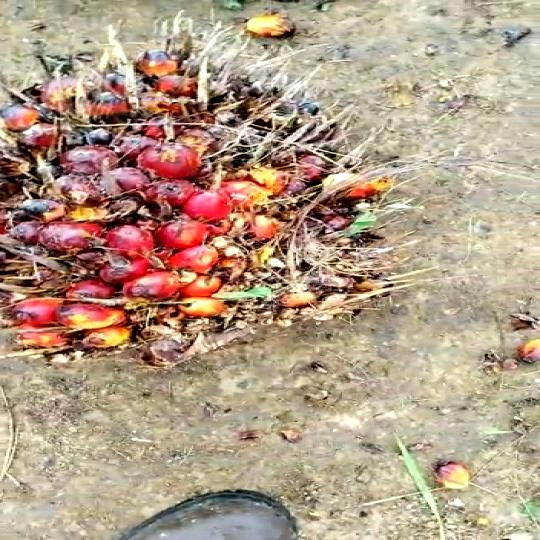masak: (0, 36, 383, 390)
